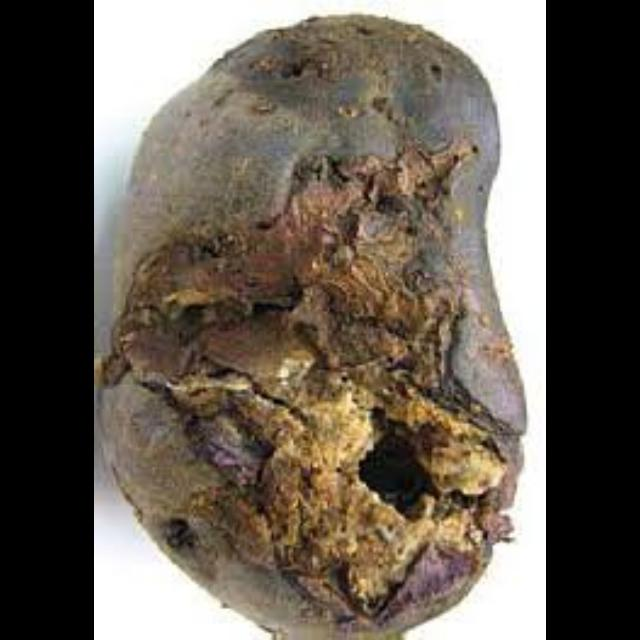Damaged potato: (119, 10, 526, 636)
